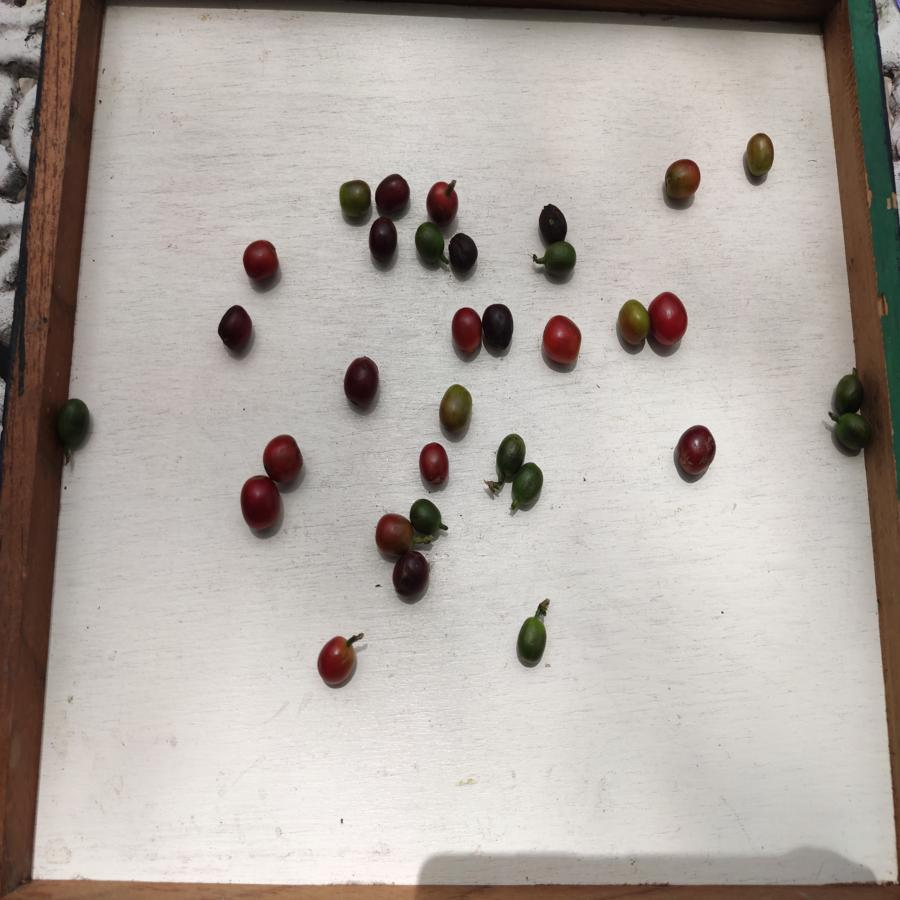Inmaduro: (55, 396, 93, 447), (514, 613, 552, 662), (831, 409, 871, 453), (830, 371, 868, 417), (414, 220, 445, 268), (409, 497, 448, 535), (512, 459, 544, 505), (494, 434, 525, 481), (541, 241, 578, 280)
Maduro: (239, 476, 283, 534), (650, 290, 690, 347), (540, 314, 582, 368), (315, 634, 356, 688), (262, 433, 305, 482), (451, 304, 485, 357), (243, 239, 278, 283), (418, 443, 448, 485), (429, 180, 458, 213)
Pinton: (437, 382, 474, 434), (616, 299, 651, 348), (664, 159, 701, 202), (374, 512, 413, 552), (336, 180, 372, 218), (745, 131, 774, 177)
Sobremaduro: (672, 421, 718, 478), (340, 357, 380, 409), (389, 550, 430, 599), (218, 306, 255, 353), (483, 302, 515, 355), (369, 215, 400, 269), (373, 174, 410, 216), (447, 233, 479, 274), (538, 202, 569, 242)
